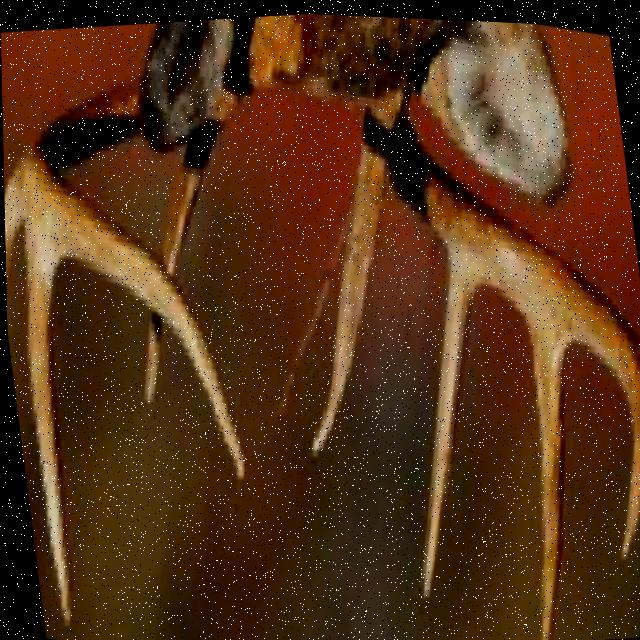L-G2: (3, 150, 28, 299)
L-G3: (24, 218, 74, 627)
R-F: (363, 84, 640, 557)
R-G1: (306, 137, 389, 458)
R-G2: (417, 249, 478, 596)
R-G3: (525, 312, 569, 638)
